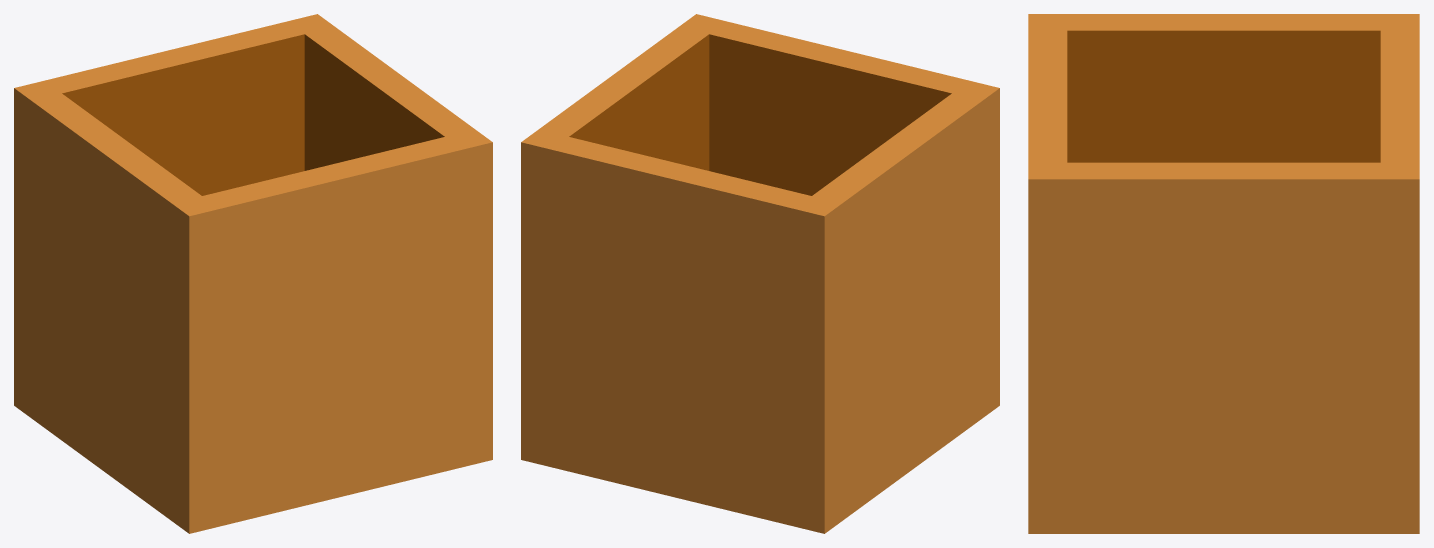
The model's file is box_01_mockup.fbx.
3 views of the same model, side by side, from view 1: azimuth 30°, elevation 25°; view 2: azimuth 150°, elevation 25°; view 3: azimuth 270°, elevation 25° (orthographic). The views are drawn at different scales.
Visible parts, largest first — view 1: Cube; view 2: Cube; view 3: Cube.
Boxes of the visible parts, x1,y1,x2,y2 form: Cube: (14, 14, 492, 533); Cube: (521, 14, 999, 533); Cube: (1028, 14, 1419, 533).
Bounding box in the file's own units: 0.5 × 0.5 × 0.5.
